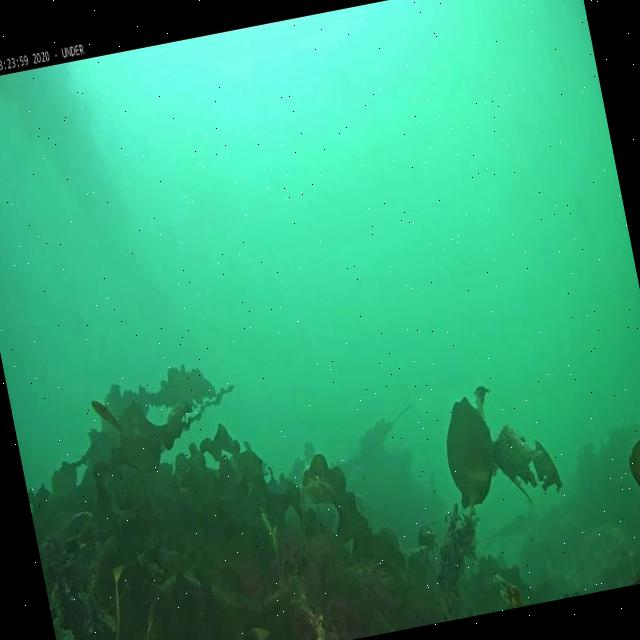fish: (89, 393, 126, 437)
